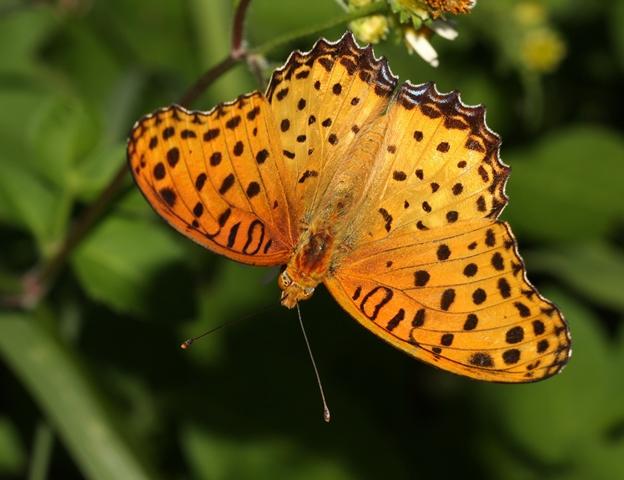Argyreus hyperbius: (121, 32, 572, 424)
butterfly: (123, 34, 574, 426)
